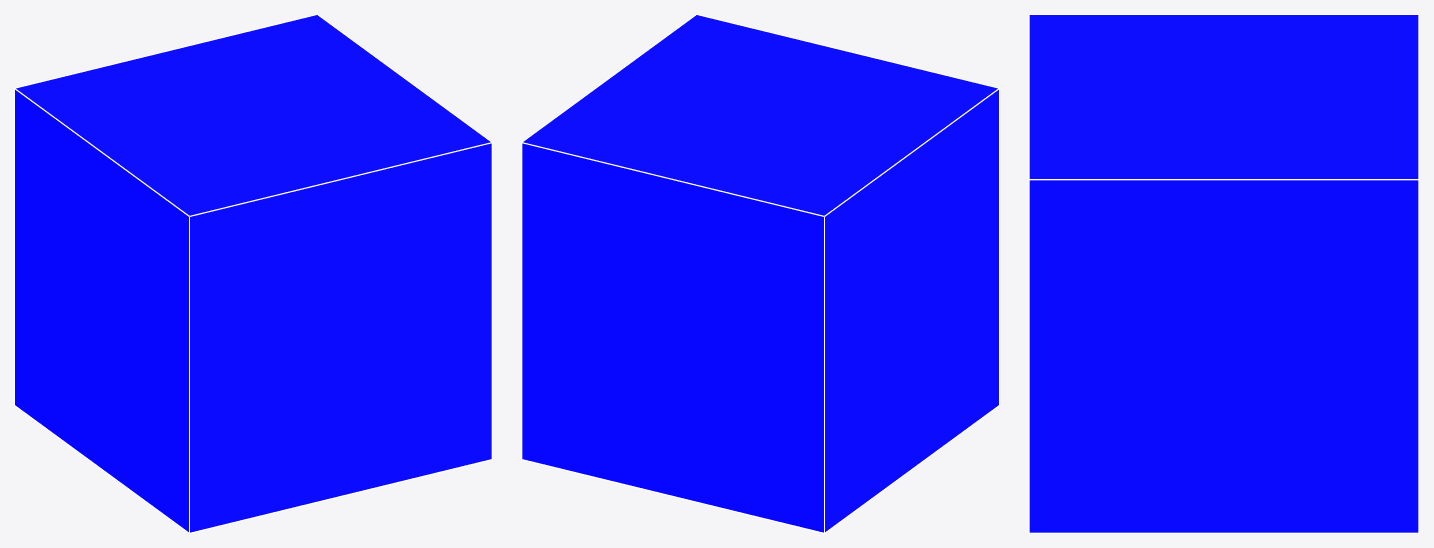
File: tesseract_final.gltf
The picture shows the model from 3 angles, left to right: view 1: azimuth 30°, elevation 25°; view 2: azimuth 150°, elevation 25°; view 3: azimuth 270°, elevation 25°; orthographic projection. The views are drawn at different scales.
Parts seen in each view (by area): view 1: Structure_1, Splines_Structure_1; view 2: Structure_1, Splines_Structure_1; view 3: Structure_1, Splines_Structure_1.
Boxes of the visible parts, <box> form: Structure_1: <box>15,15,491,532</box>; Splines_Structure_1: <box>14,14,492,533</box>; Structure_1: <box>522,15,998,532</box>; Splines_Structure_1: <box>521,14,999,533</box>; Structure_1: <box>1029,15,1418,532</box>; Splines_Structure_1: <box>1028,14,1419,533</box>.
Size of the model in its own units: 5.02 by 5.02 by 5.02.
